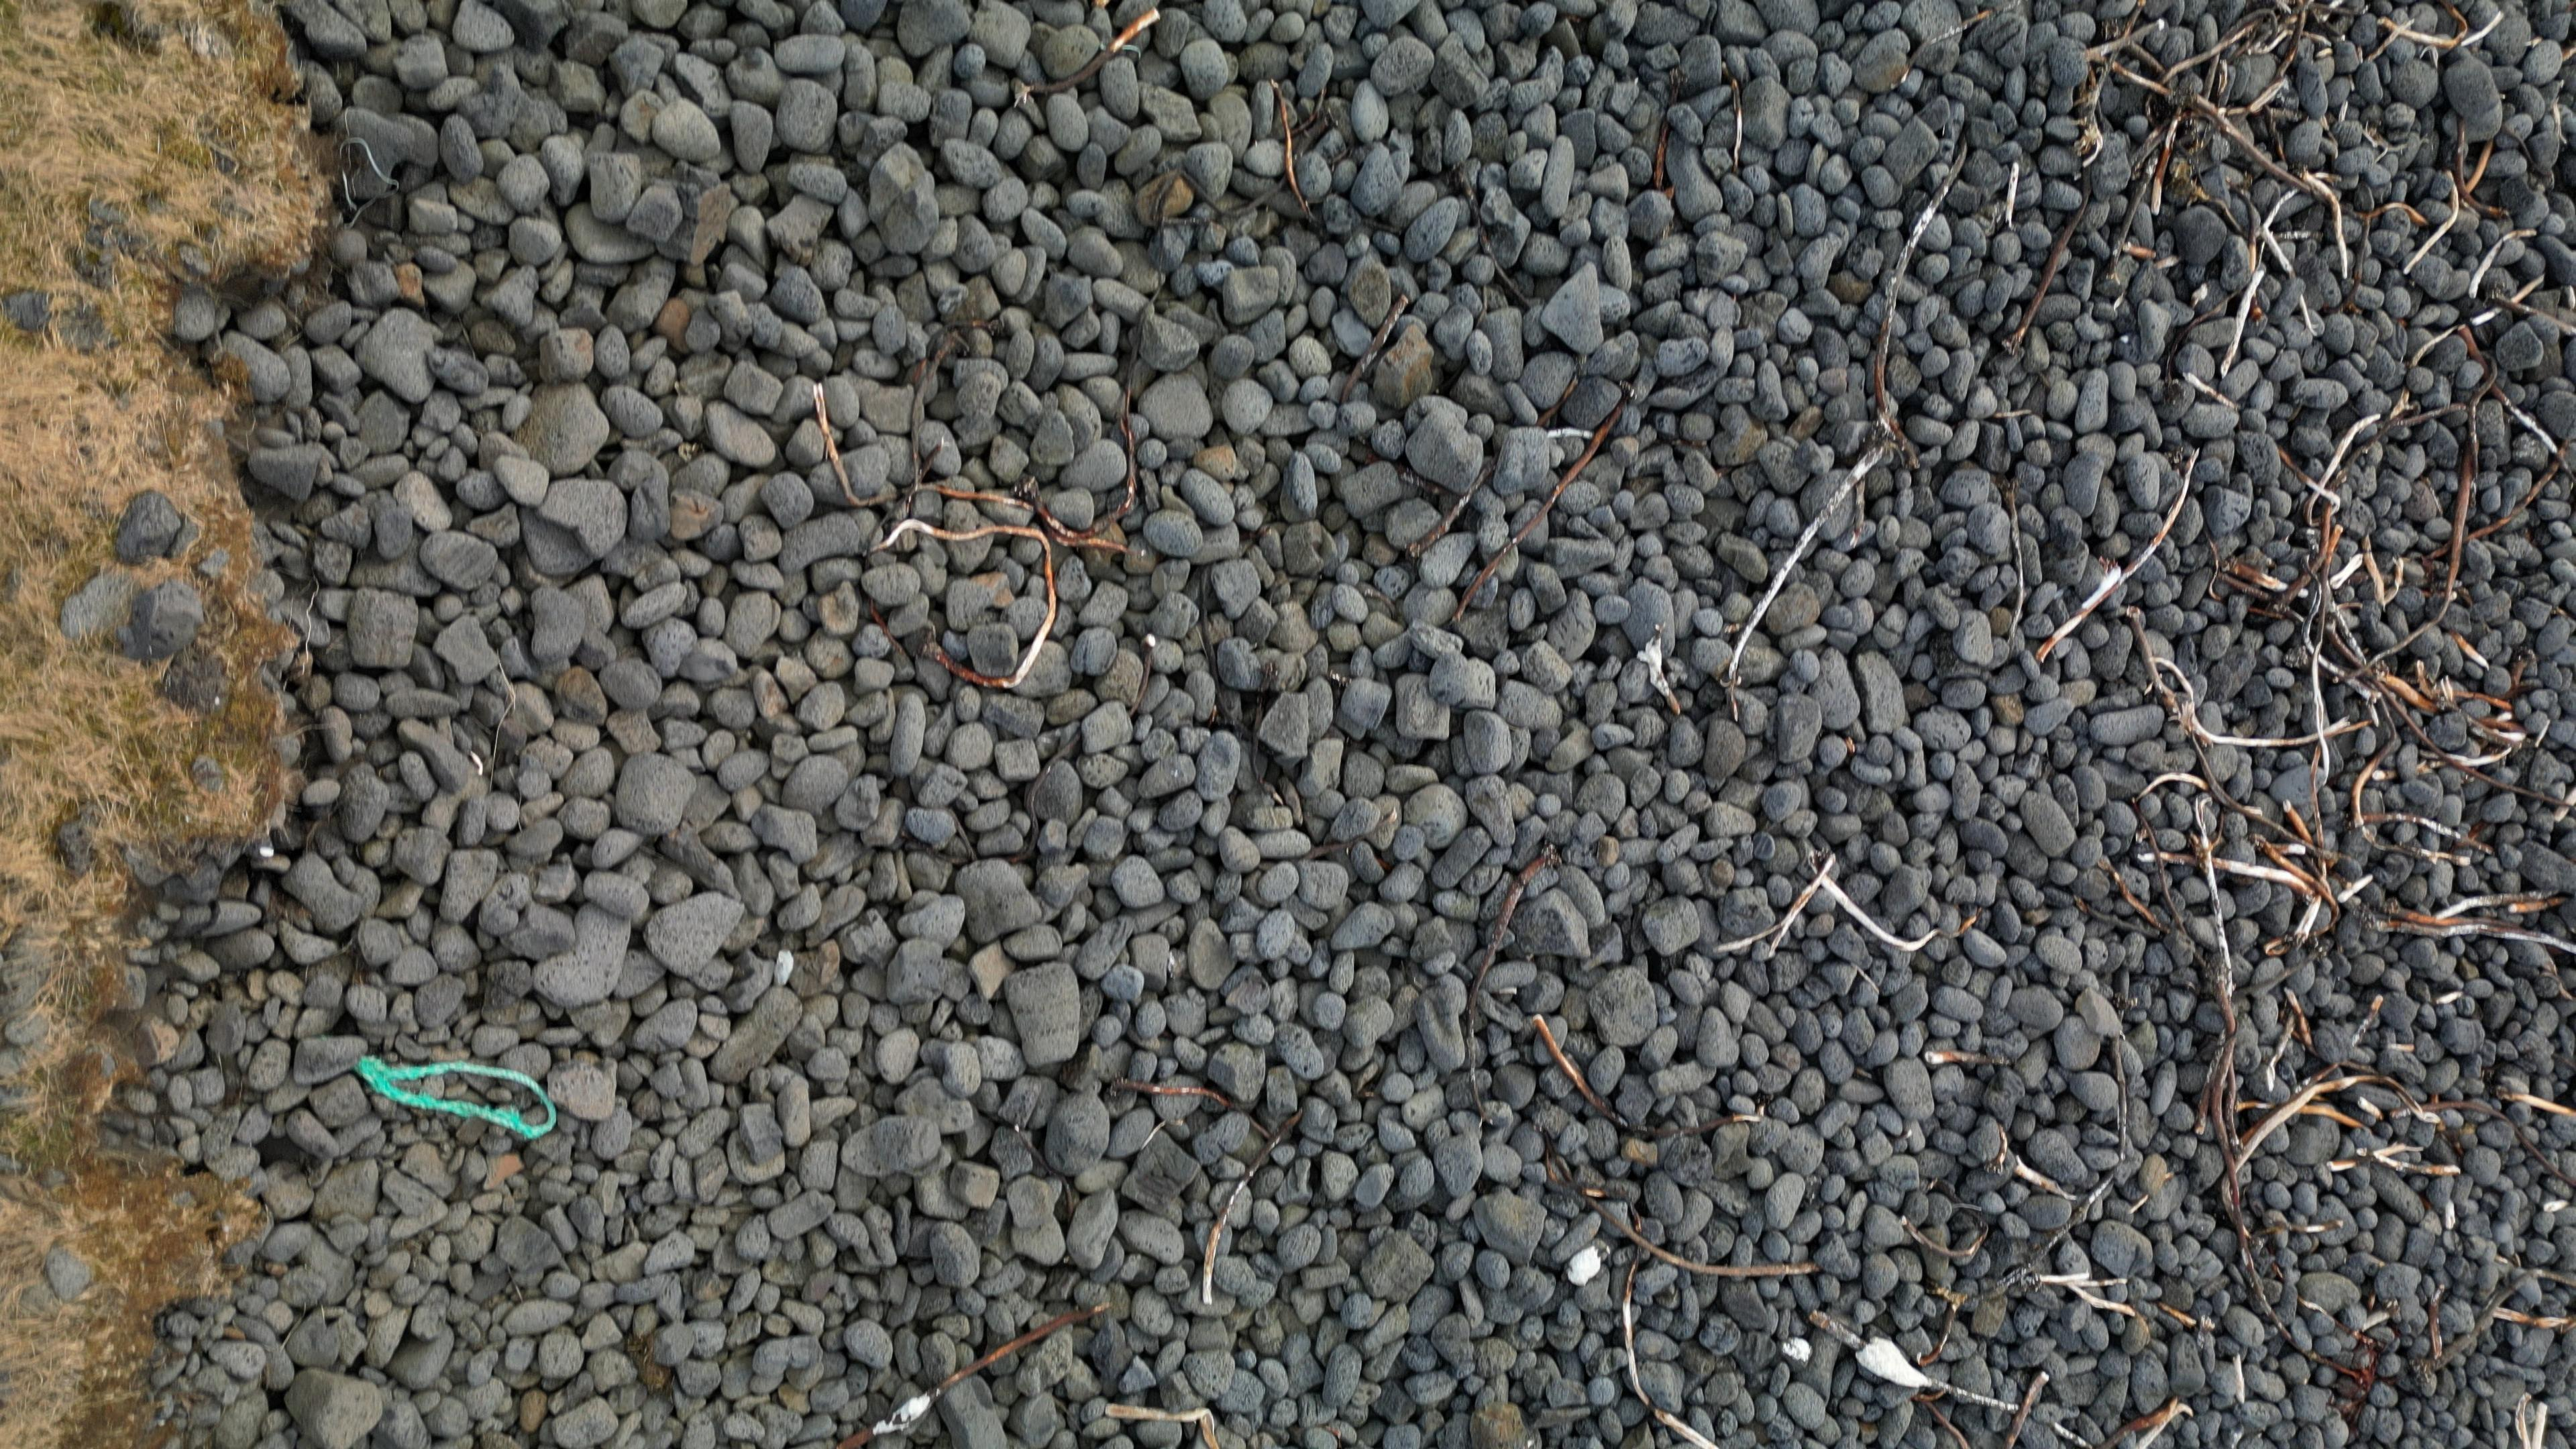trash: (357, 1056, 559, 1143)
